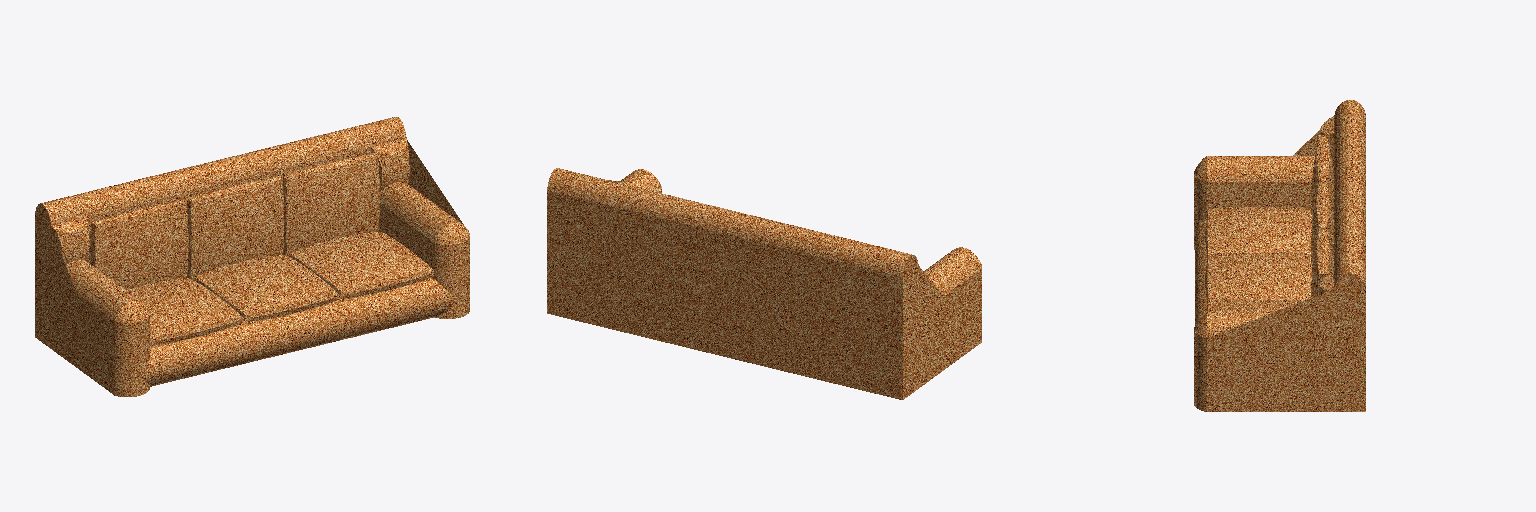
3 renders of one model, left to right at view 1: azimuth 30°, elevation 25°; view 2: azimuth 150°, elevation 25°; view 3: azimuth 270°, elevation 25°, orthographic.
Visible parts, largest first — view 1: Mesh37 Component_6_1 Model, Mesh32 Group38 Group36 Cushions2 Component_6_1 Model, Mesh26 Group31 Group29 Cushions2 Component_6_1 Model, Mesh20 Group24 Group22 Cushions2 Component_6_1 Model, Mesh7 Group9 Group8 Cushions1 Component_6_1 Model, Mesh13 Group16 Group15 Cushions1 Component_6_1 Model, Mesh1 Group2 Group1 Cushions1 Component_6_1 Model, Mesh12 Group14 Group8 Cushions1 Component_6_1 Model, Mesh6 Group7 Group1 Cushions1 Component_6_1 Model, Mesh18 Group21 Group15 Cushions1 Component_6_1 Model, Mesh36 Group42 Group36 Cushions2 Component_6_1 Model, Mesh30 Group35 Group29 Cushions2 Component_6_1 Model; view 2: Mesh37 Component_6_1 Model; view 3: Mesh37 Component_6_1 Model, Mesh1 Group2 Group1 Cushions1 Component_6_1 Model, Mesh7 Group9 Group8 Cushions1 Component_6_1 Model, Mesh13 Group16 Group15 Cushions1 Component_6_1 Model.
Part boxes in pixels (bbox=[...]): Mesh37 Component_6_1 Model: bbox=[35, 117, 469, 396]; Mesh32 Group38 Group36 Cushions2 Component_6_1 Model: bbox=[286, 156, 379, 255]; Mesh26 Group31 Group29 Cushions2 Component_6_1 Model: bbox=[191, 179, 283, 279]; Mesh20 Group24 Group22 Cushions2 Component_6_1 Model: bbox=[95, 202, 187, 289]; Mesh7 Group9 Group8 Cushions1 Component_6_1 Model: bbox=[194, 255, 336, 315]; Mesh13 Group16 Group15 Cushions1 Component_6_1 Model: bbox=[290, 232, 432, 291]; Mesh1 Group2 Group1 Cushions1 Component_6_1 Model: bbox=[126, 278, 241, 338]; Mesh12 Group14 Group8 Cushions1 Component_6_1 Model: bbox=[245, 293, 339, 321]; Mesh6 Group7 Group1 Cushions1 Component_6_1 Model: bbox=[150, 317, 243, 345]; Mesh18 Group21 Group15 Cushions1 Component_6_1 Model: bbox=[340, 270, 433, 298]; Mesh36 Group42 Group36 Cushions2 Component_6_1 Model: bbox=[282, 153, 377, 177]; Mesh30 Group35 Group29 Cushions2 Component_6_1 Model: bbox=[187, 176, 282, 200]; Mesh37 Component_6_1 Model: bbox=[547, 168, 981, 399]; Mesh37 Component_6_1 Model: bbox=[1194, 100, 1365, 411]; Mesh1 Group2 Group1 Cushions1 Component_6_1 Model: bbox=[1208, 207, 1311, 253]; Mesh7 Group9 Group8 Cushions1 Component_6_1 Model: bbox=[1208, 253, 1311, 300]; Mesh13 Group16 Group15 Cushions1 Component_6_1 Model: bbox=[1208, 300, 1301, 311].
Size of the model in its own units: 4.13 by 1.54 by 1.73.
Materials: 1 (1 with a texture image).